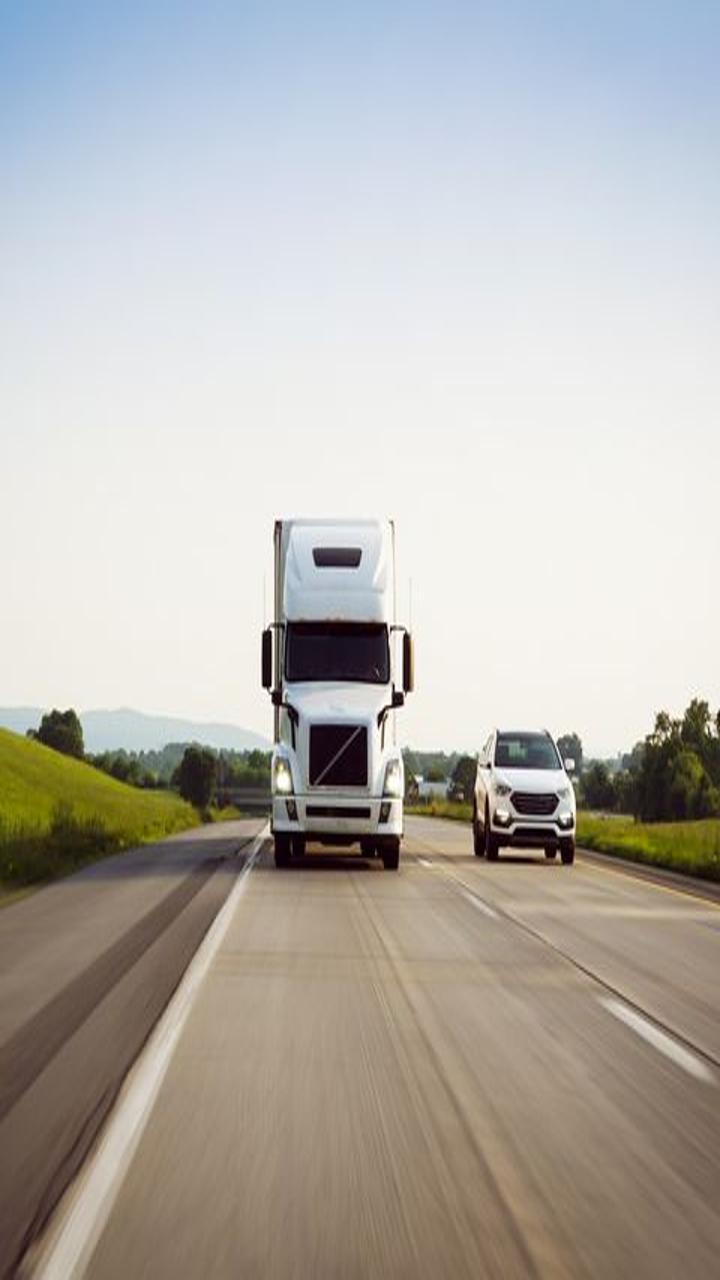vehicle: (248, 497, 427, 874), (451, 697, 599, 904)
